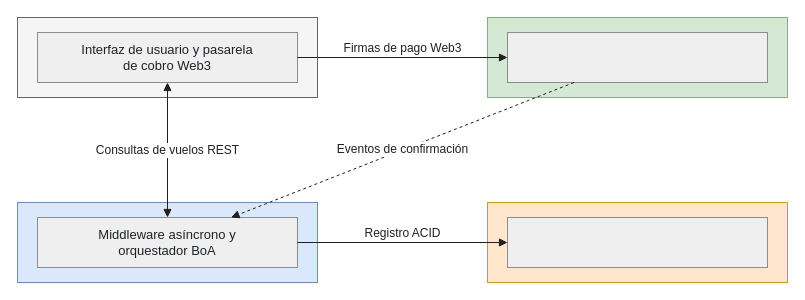
This 805x300 diagram has some shape labels left out. The box of each missing label's shape, as (x1, y1, x2, y2) in pixels:
Base de datos relacional y auditoría: (506, 216, 768, 268)
Contrato inteligente y validación on-chain: (506, 32, 768, 82)
